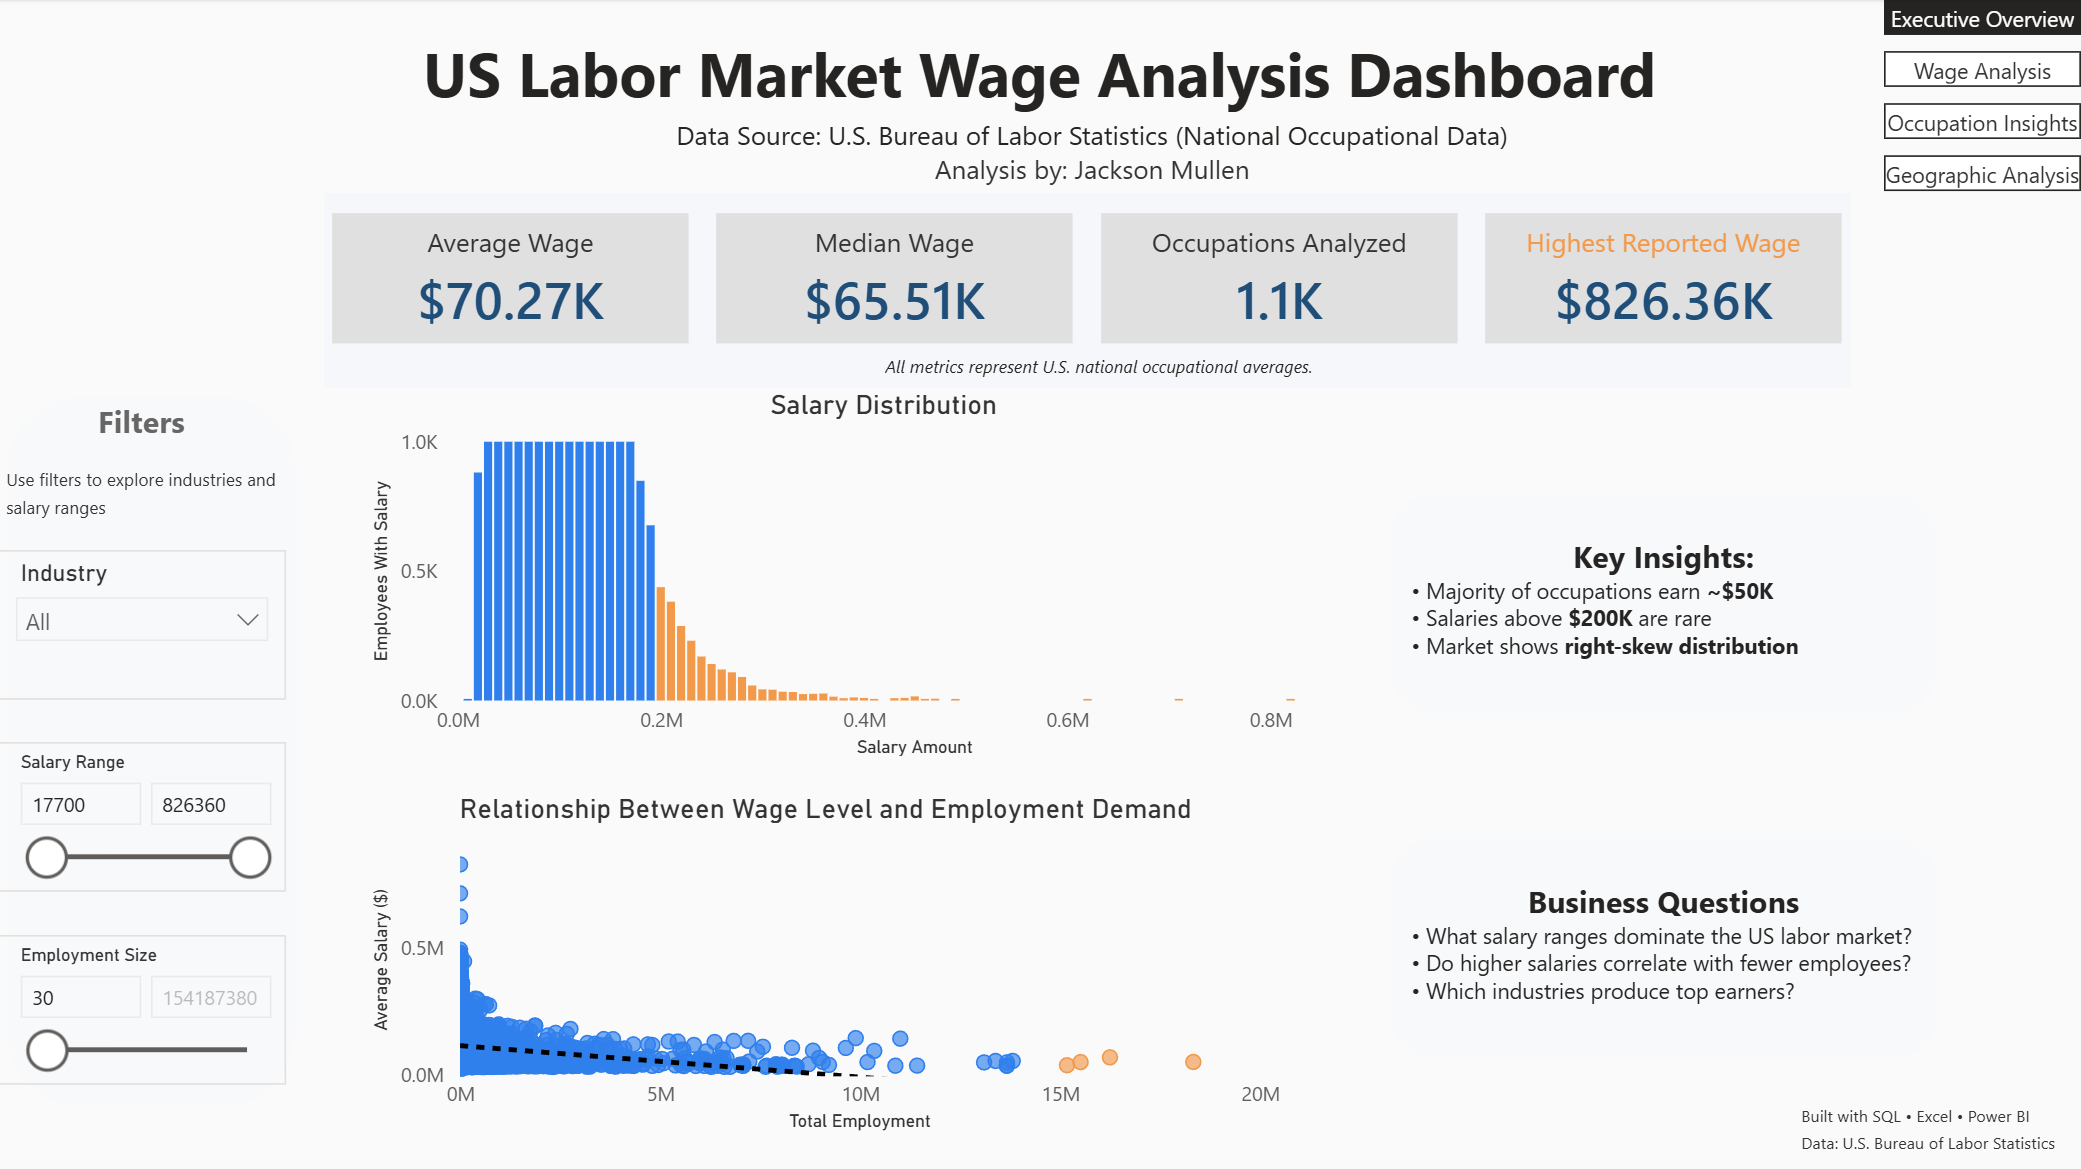

This screenshot's page, from the dashboard's own definition file:
{"tool":"powerbi","page":{"name":"Executive Overview","canvas":[1280,720],"ordinal":0},"visuals":[{"type":"cardVisual","title":"Average Salary","fields":{"Data":["Avg(cleaned_data.Salary)"]},"box":[200.2,126.3,229,91],"z":0,"group":"g2"},{"type":"shape","box":[5.5,244.5,176.9,435.6],"z":0},{"type":"slicer","fields":{"Values":["cleaned_data.Industry"]},"box":[0,338.5,177.2,92.1],"z":0,"group":"g1"},{"type":"cardVisual","title":"Median Salary","fields":{"Data":["cleaned_data.MedianSalary"]},"box":[436.3,126.3,229,91],"z":1000,"group":"g2"},{"type":"shape","box":[855.7,304.4,335,135],"z":1000},{"type":"slicer","fields":{"Values":["cleaned_data.Salary"]},"box":[0,456.7,176.6,92.1],"z":1000,"group":"g1"},{"type":"textbox","box":[0,0,1279.8,82.9],"z":2000},{"type":"cardVisual","fields":{"Data":["cleaned_data.Total Occupations"]},"box":[672.5,126.3,229,91],"z":2000,"group":"g2"},{"type":"slicer","fields":{"Values":["cleaned_data.amount_employed"]},"box":[0,575,177.2,92.2],"z":2000,"group":"g1"},{"type":"cardVisual","fields":{"Data":["cleaned_data.MaxSalary"]},"box":[908.6,126.3,229,91],"z":3000,"group":"g2"},{"type":"shape","box":[855.7,515.2,335.9,135],"z":3000},{"type":"textbox","box":[385.4,67.4,573.9,51.7],"z":4000},{"type":"shape","box":[200.2,119.1,937.8,119.8],"z":5000},{"type":"group","id":"g1","title":"Group 2","box":[0,338.5,176.9,329.3],"z":6000},{"type":"columnChart","title":"Salary Distribution","fields":{"Y":["CountNonNull(cleaned_data.Salary)"],"Category":["cleaned_data.Salary (bins)"]},"box":[225.1,238.9,638.7,231],"z":7000},{"type":"scatterChart","title":"Relationship Between Wage Level and Employment Demand","fields":{"Y":["cleaned_data.annual_mean_wage"],"X":["cleaned_data.WA Employment"]},"box":[225.1,486.9,567.4,212.7],"z":8000},{"type":"textbox","box":[863,324.1,320,96],"z":9000},{"type":"textbox","box":[35,241.4,106.3,38.7],"z":10000},{"type":"textbox","box":[863,536.2,320.2,96],"z":11000},{"type":"textbox","box":[1102.7,667.8,177.5,52.2],"z":12000},{"type":"pageNavigator","box":[1158.4,0,121.6,119.2],"z":13000},{"type":"textbox","box":[0,280.1,188,44.2],"z":14000},{"type":"group","id":"g2","title":"Group 1","box":[200.2,126.3,937.8,91],"z":15000},{"type":"textbox","box":[539.9,210.7,280.7,34],"z":16000}]}

Visuals, with their boxes in screenshot pixels (x1, y1, x2, y2), scaled from the page's 1280x720 canvas onto the 2081x1169 screenshot:
"Average Salary" cardVisual: rect(325, 205, 698, 353)
shape: rect(9, 397, 297, 1104)
slicer - cleaned_data.Industry: rect(0, 550, 288, 699)
"Median Salary" cardVisual: rect(709, 205, 1082, 353)
shape: rect(1391, 494, 1936, 713)
slicer - cleaned_data.Salary: rect(0, 742, 287, 891)
textbox: rect(0, 0, 2080, 135)
cardVisual - cleaned_data.Total Occupations: rect(1093, 205, 1466, 353)
slicer - cleaned_data.amount_employed: rect(0, 934, 288, 1083)
cardVisual - cleaned_data.MaxSalary: rect(1477, 205, 1849, 353)
shape: rect(1391, 836, 1937, 1056)
textbox: rect(627, 109, 1560, 193)
shape: rect(325, 193, 1850, 388)
"Group 2" group: rect(0, 550, 288, 1084)
"Salary Distribution" columnChart: rect(366, 388, 1404, 763)
"Relationship Between Wage Level and Employment Demand" scatterChart: rect(366, 791, 1288, 1136)
textbox: rect(1403, 526, 1923, 682)
textbox: rect(57, 392, 230, 455)
textbox: rect(1403, 871, 1924, 1026)
textbox: rect(1793, 1084, 2080, 1168)
pageNavigator: rect(1883, 0, 2080, 194)
textbox: rect(0, 455, 306, 527)
"Group 1" group: rect(325, 205, 1850, 353)
textbox: rect(878, 342, 1334, 397)
